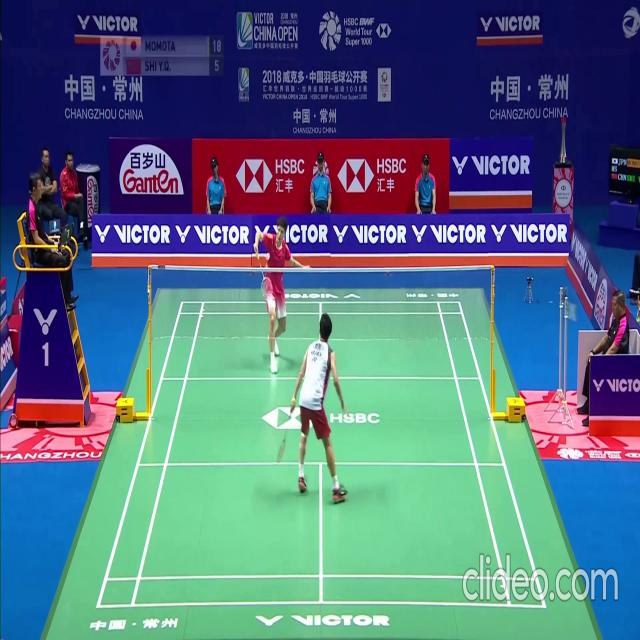Shuttlecock: (265, 252, 270, 260)
